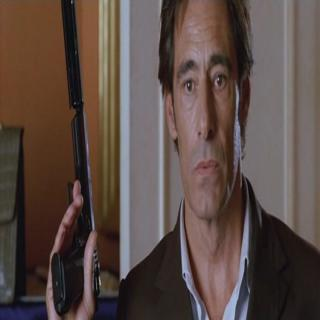gun: (33, 1, 112, 318)
